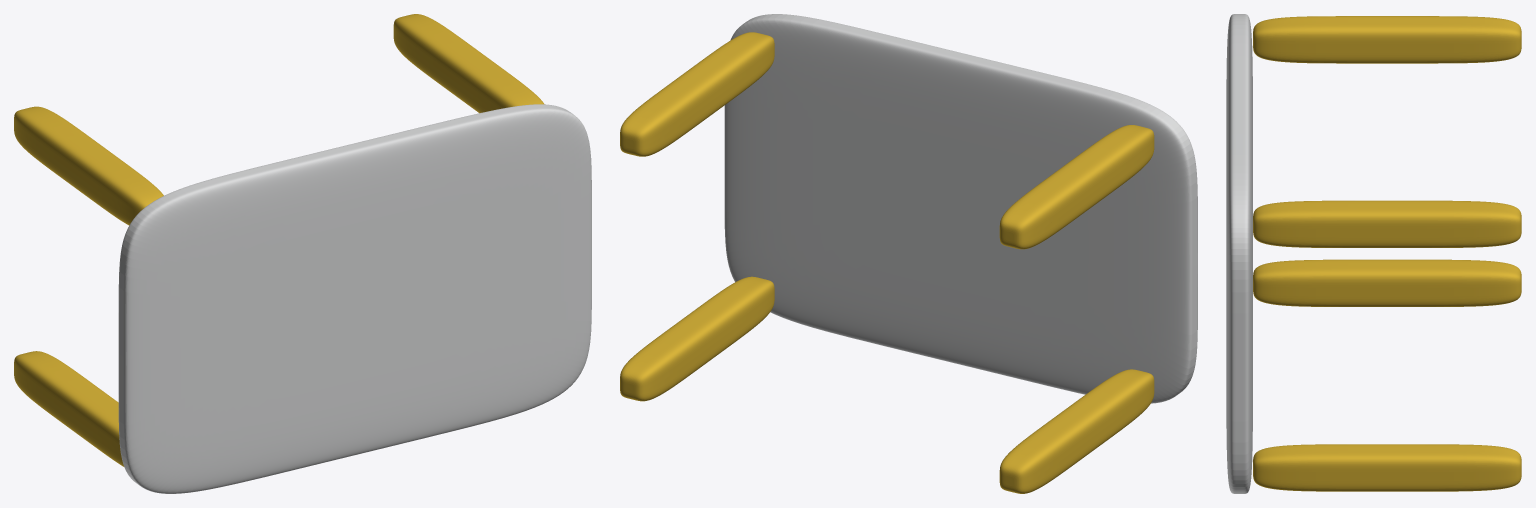
Rendered from 12_pool_table_sq.glb.
3 renders of one model, left to right at view 1: azimuth 30°, elevation 25°; view 2: azimuth 150°, elevation 25°; view 3: azimuth 270°, elevation 25°, orthographic.
Parts seen in each view (by area): view 1: superquadric_0, superquadric_3, superquadric_4, superquadric_1; view 2: superquadric_0, superquadric_1, superquadric_3, superquadric_2, superquadric_4; view 3: superquadric_0, superquadric_2, superquadric_3, superquadric_4, superquadric_1.
Part boxes in pixels (x1,y1,x2,y2): superquadric_0: [118, 104, 591, 493]; superquadric_3: [14, 106, 163, 225]; superquadric_4: [393, 14, 544, 113]; superquadric_1: [14, 351, 123, 466]; superquadric_0: [724, 14, 1197, 403]; superquadric_1: [999, 369, 1154, 493]; superquadric_3: [999, 125, 1154, 249]; superquadric_2: [620, 276, 774, 401]; superquadric_4: [620, 32, 774, 156]; superquadric_0: [1226, 14, 1252, 493]; superquadric_2: [1253, 444, 1521, 491]; superquadric_3: [1253, 16, 1521, 63]; superquadric_4: [1253, 200, 1521, 247]; superquadric_1: [1253, 259, 1521, 306].
Size of the model in its own units: 1 by 0.625 by 0.5498.
